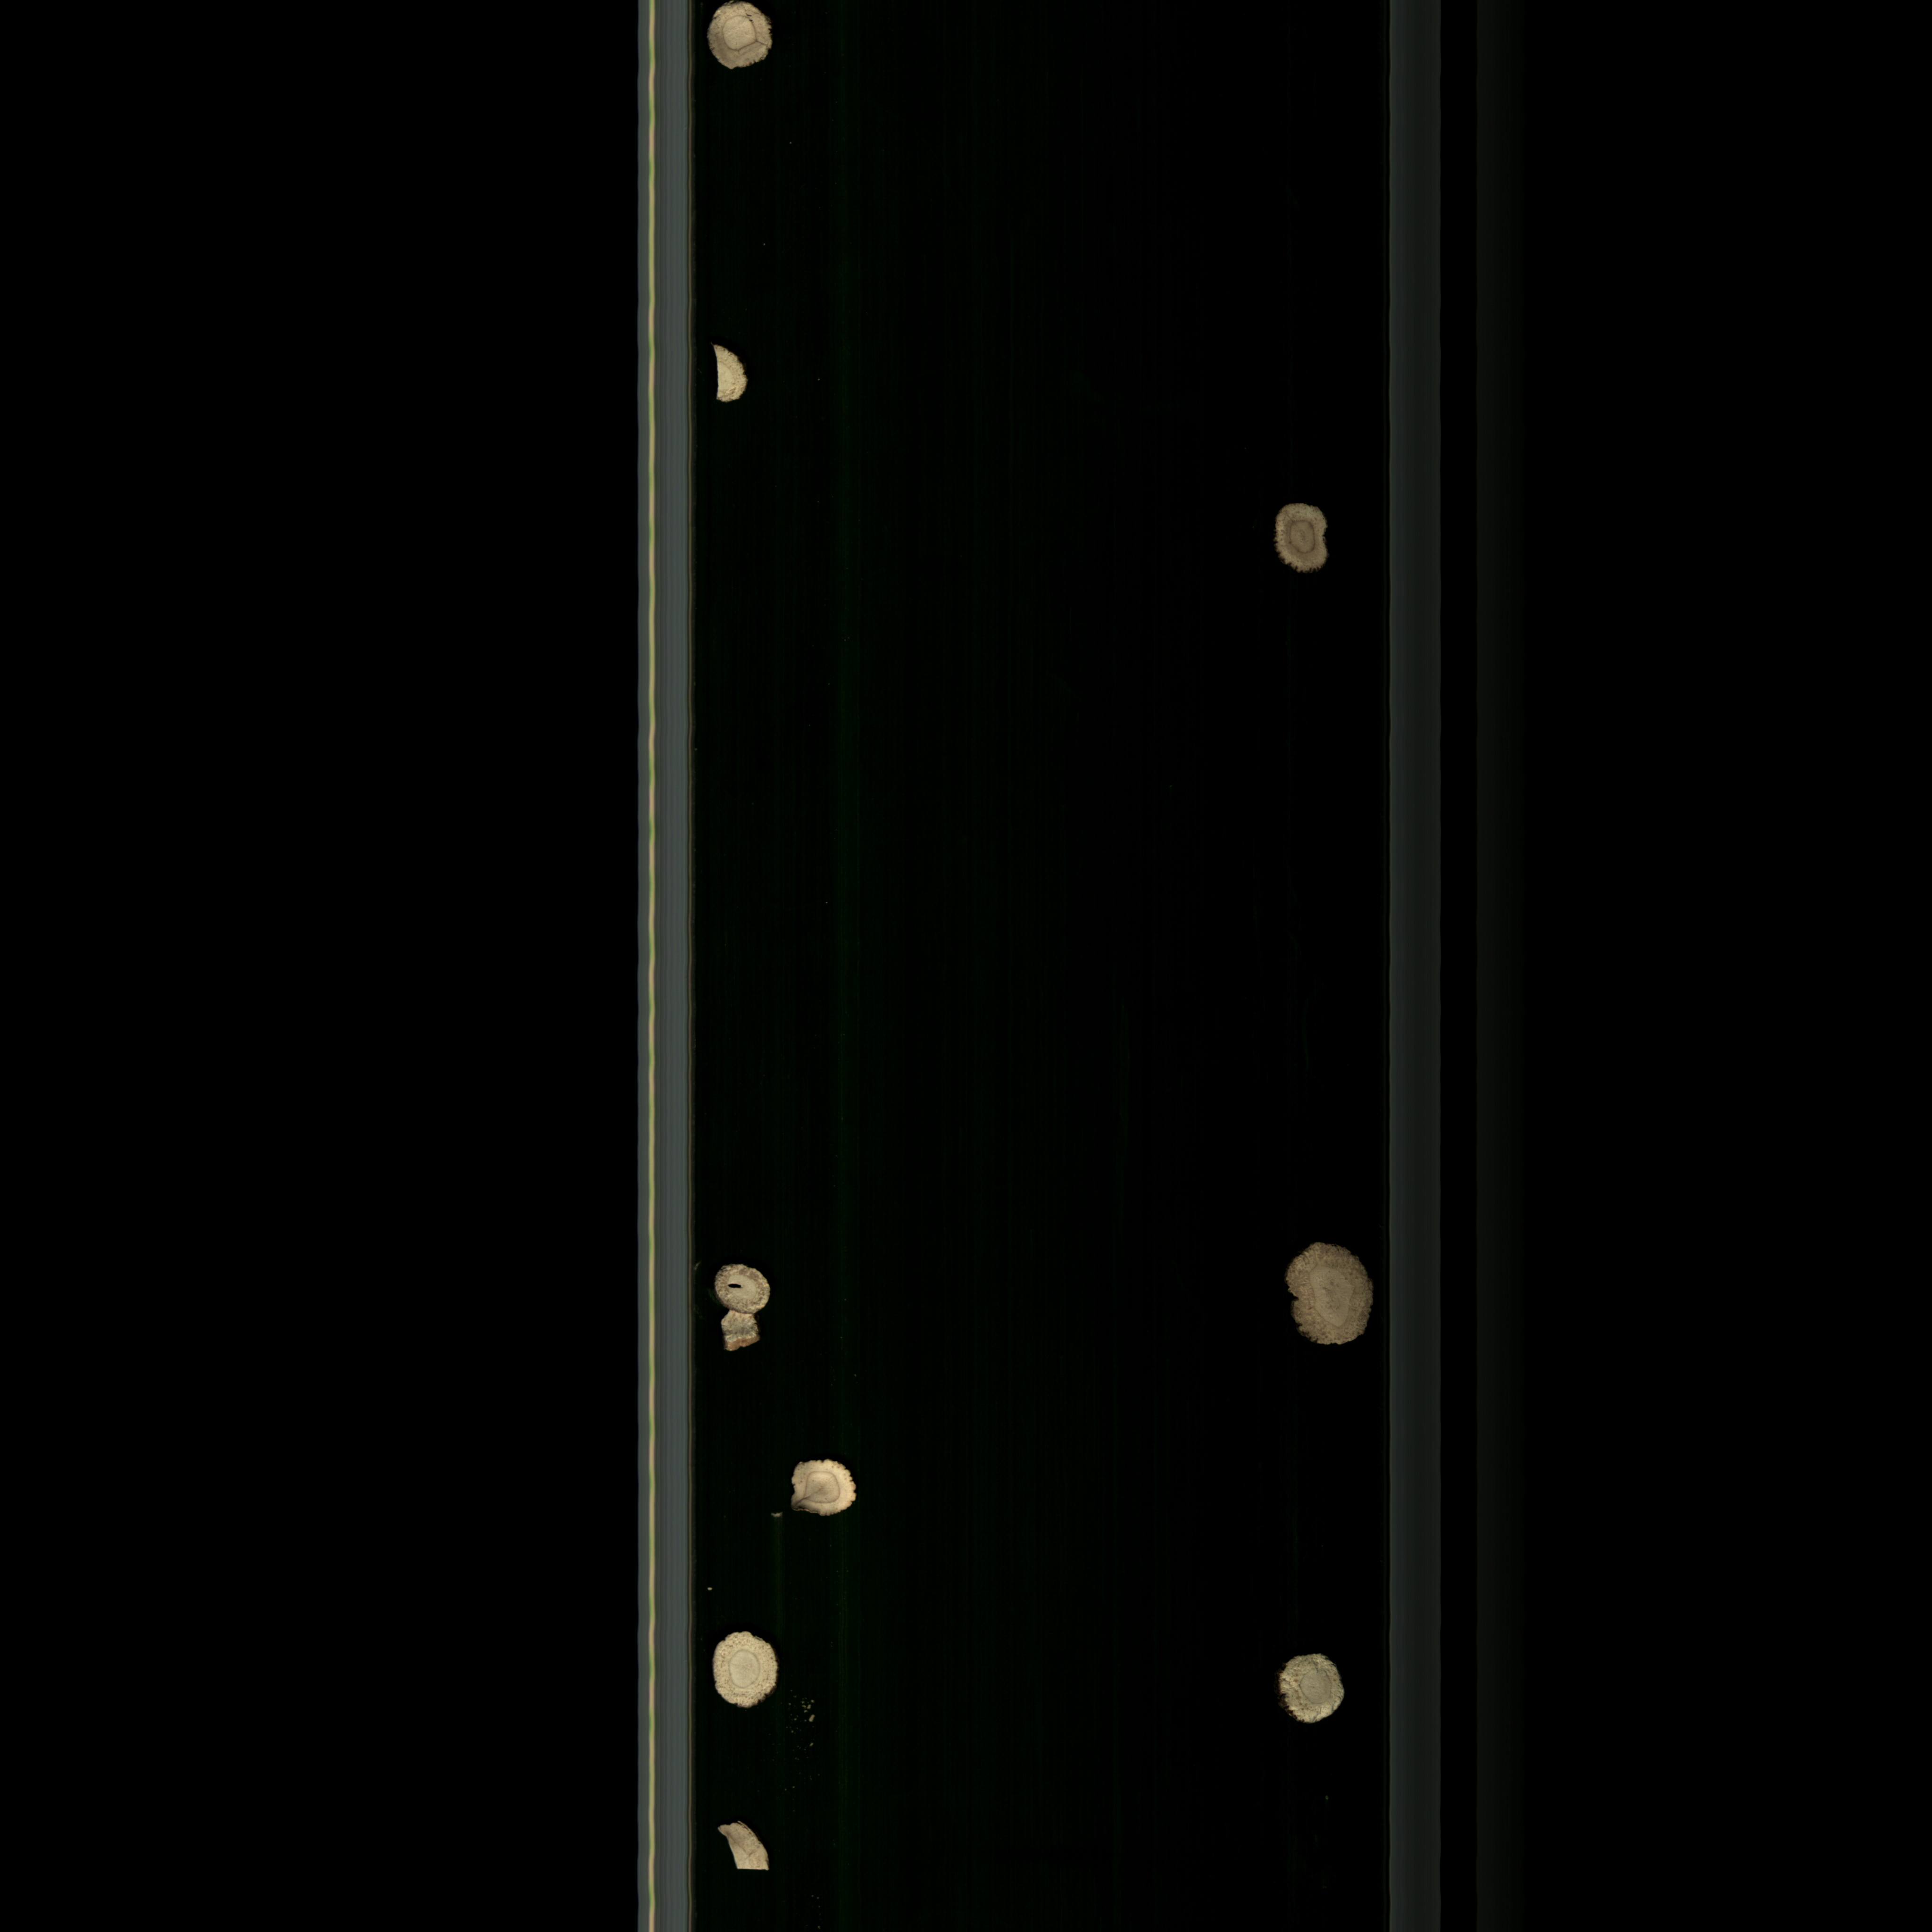debris: (709, 1821, 778, 1881), (708, 338, 757, 421), (718, 1304, 773, 1357)
hole: (711, 1253, 784, 1315)
moldy: (1281, 1238, 1376, 1361), (1269, 1649, 1352, 1737), (771, 1453, 865, 1523), (1267, 499, 1334, 589), (699, 0, 778, 74)
